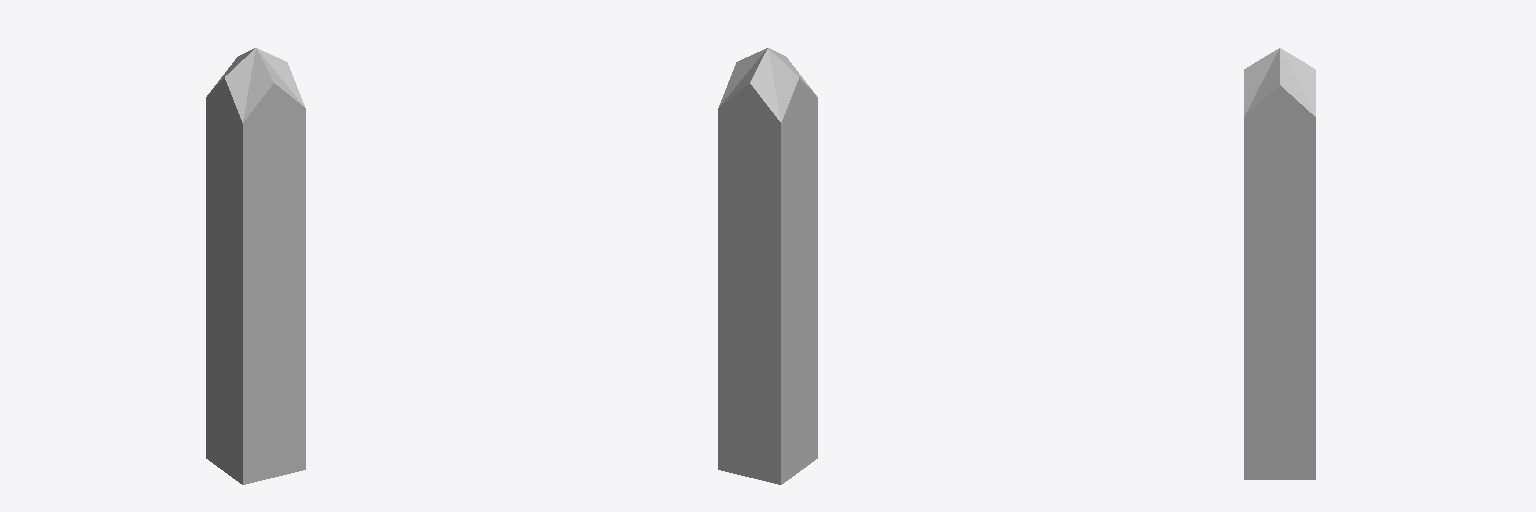
The model's file is largebuilding2.obj.
3 views of the same model, side by side, from view 1: azimuth 30°, elevation 25°; view 2: azimuth 150°, elevation 25°; view 3: azimuth 270°, elevation 25° (orthographic).
Visible parts, largest first — view 1: Building_steepleTop_lambert1_0; view 2: Building_steepleTop_lambert1_0; view 3: Building_steepleTop_lambert1_0.
Part boxes in pixels (left/top/right/bottom): Building_steepleTop_lambert1_0: left=206, top=48, right=305, bottom=484; Building_steepleTop_lambert1_0: left=718, top=48, right=817, bottom=484; Building_steepleTop_lambert1_0: left=1244, top=48, right=1315, bottom=479.
Bounding box in the file's own units: 30 × 190 × 30.